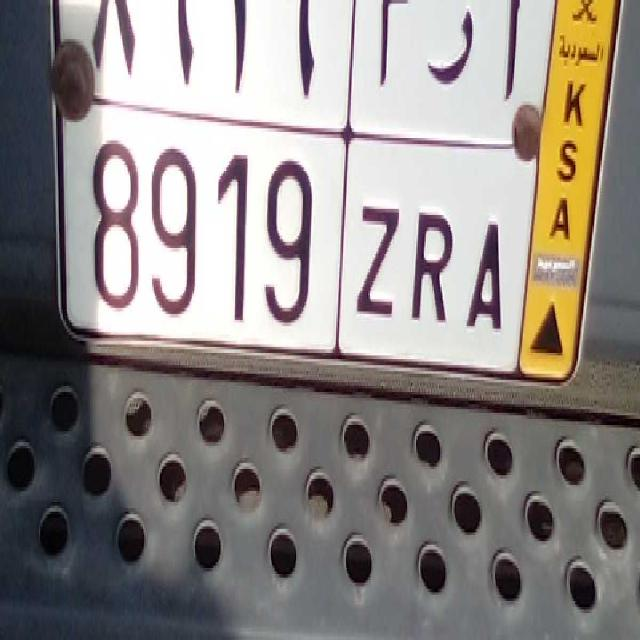license_plate: (79, 110, 523, 395)
